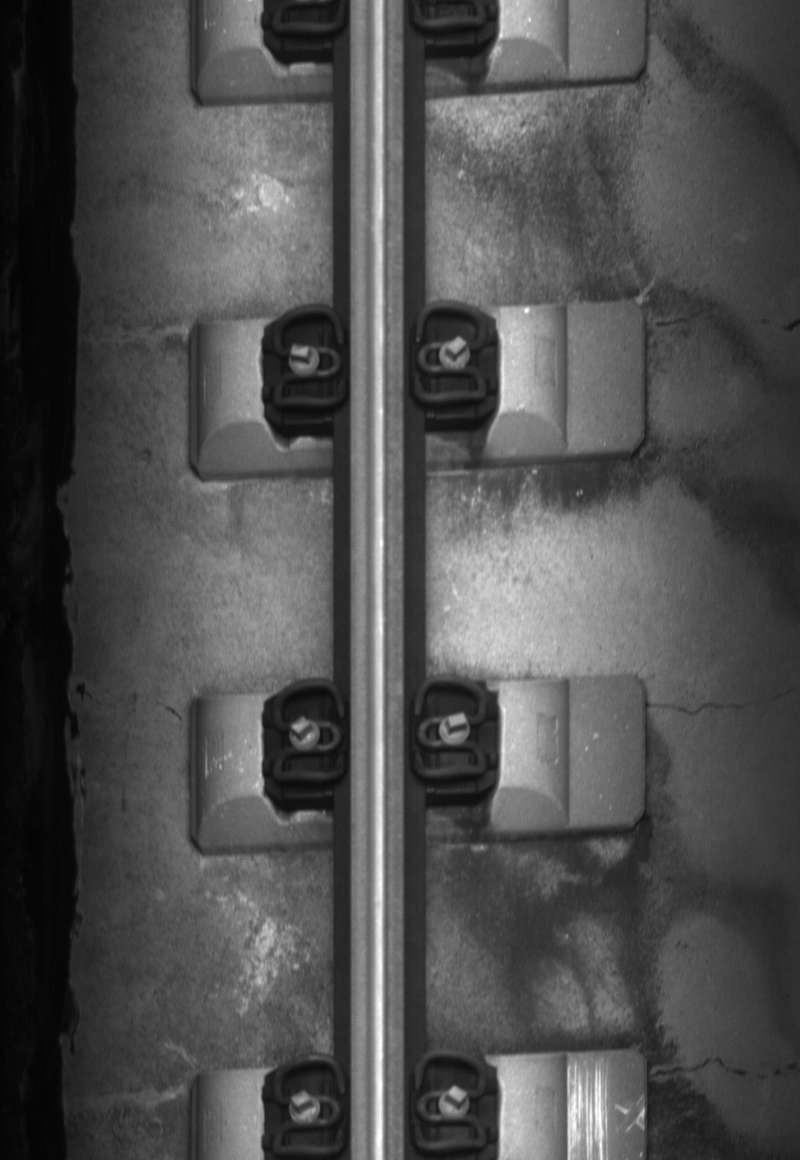l_faster: (266, 674, 351, 790), (267, 301, 350, 413), (266, 1052, 350, 1159)
r_faster: (406, 297, 492, 412), (409, 1047, 493, 1158), (410, 675, 488, 782)
